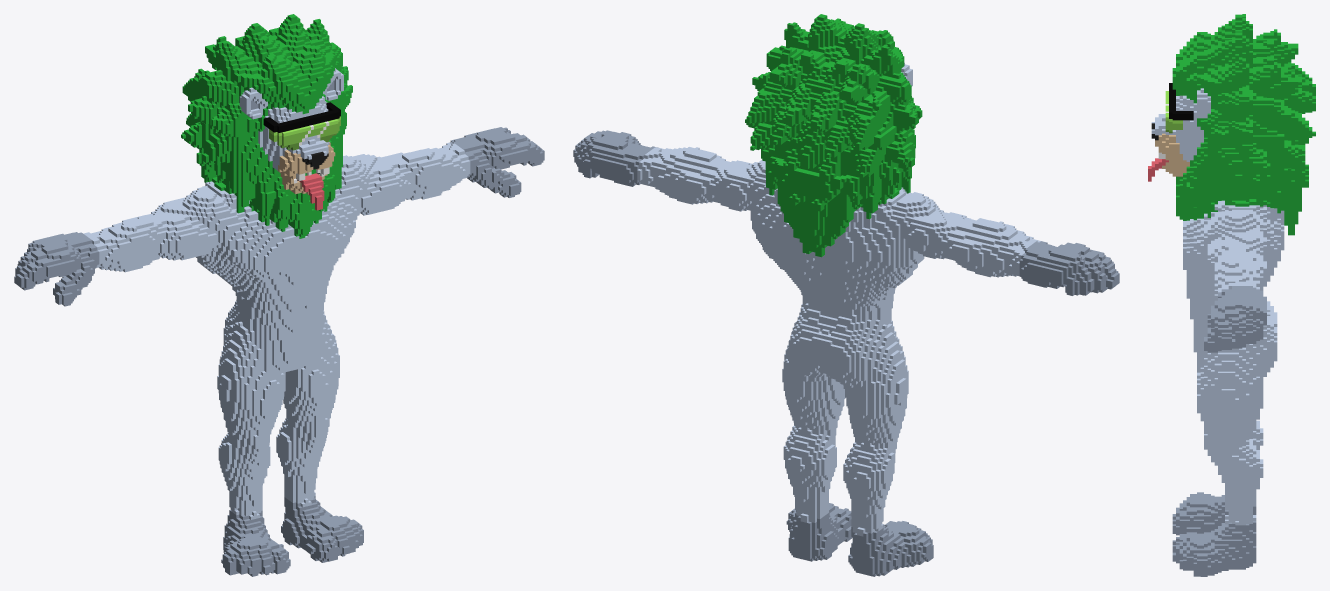
The model's file is 249-_XLCcyfB.glb.
3 renders of one model, left to right at view 1: azimuth 30°, elevation 25°; view 2: azimuth 150°, elevation 25°; view 3: azimuth 270°, elevation 25°, orthographic. The views are drawn at different scales.
Parts seen in each view (by area): view 1: tongue_out; view 2: tongue_out; view 3: tongue_out.
Part boxes in pixels (x1,y1,x2,y2): tongue_out: (14, 14, 544, 576); tongue_out: (573, 14, 1119, 576); tongue_out: (1148, 14, 1315, 576).
Bounding box in the file's own units: 17.2 × 16.5 × 4.8.
4 materials, 4 textured.
